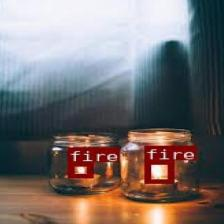fire: (143, 160, 173, 182), (66, 162, 92, 177)
